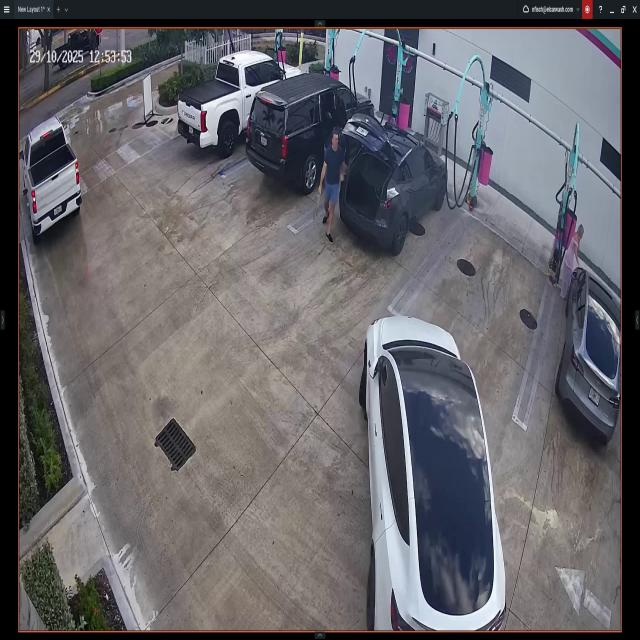Car: (363, 294, 508, 630), (248, 61, 372, 187), (339, 109, 447, 252), (178, 53, 301, 153), (559, 265, 618, 440), (20, 112, 80, 238)
